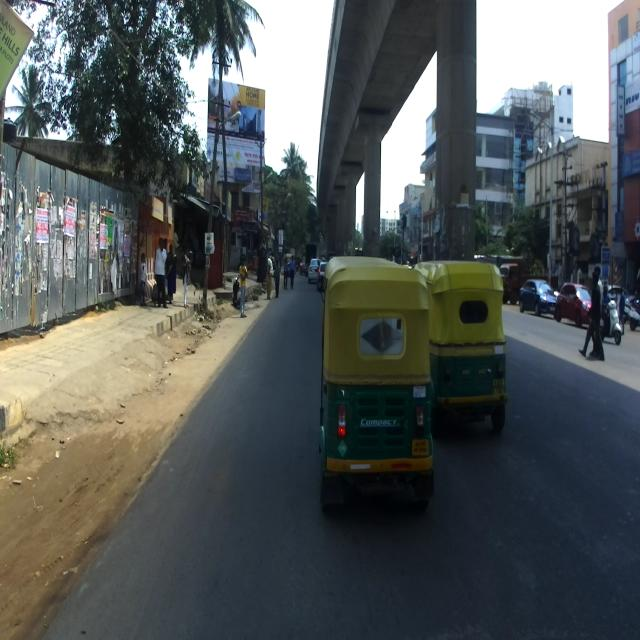auto ahead at: (323, 255, 434, 506), (434, 260, 508, 424)
electric pole ahead at: (200, 44, 232, 304)
